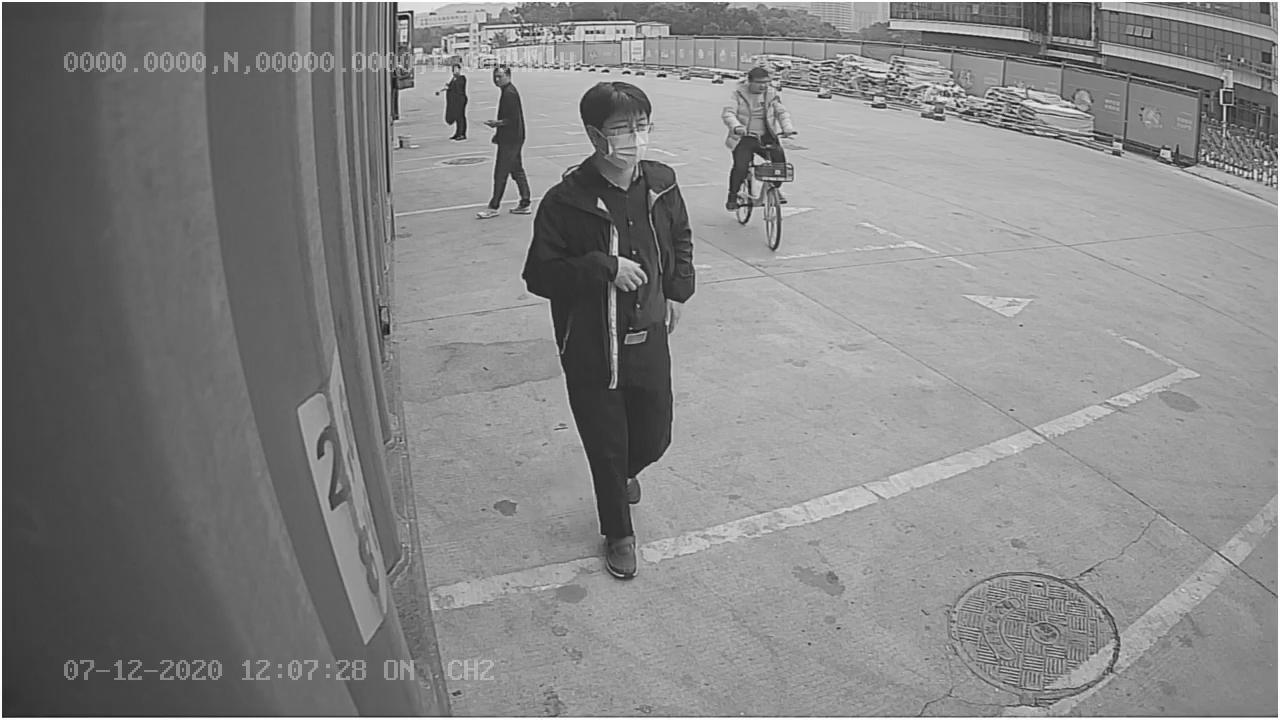person: (525, 77, 697, 584)
